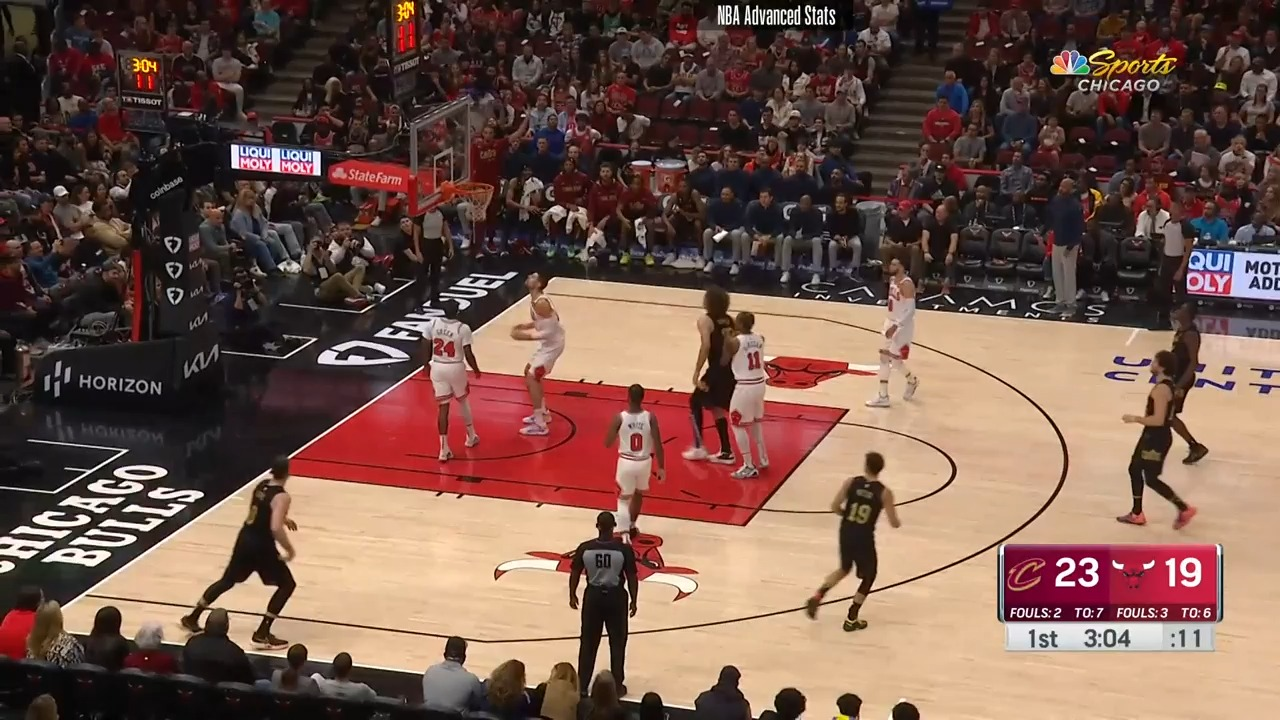net: (433, 178, 495, 227)
player: (805, 452, 912, 634), (1116, 342, 1202, 532), (511, 278, 576, 443), (609, 376, 676, 536), (686, 285, 742, 475), (422, 297, 481, 466), (1151, 304, 1212, 467), (868, 257, 927, 409), (724, 309, 775, 482)
referee: (179, 457, 307, 646), (568, 504, 632, 698), (1146, 201, 1196, 330), (404, 201, 449, 312)
